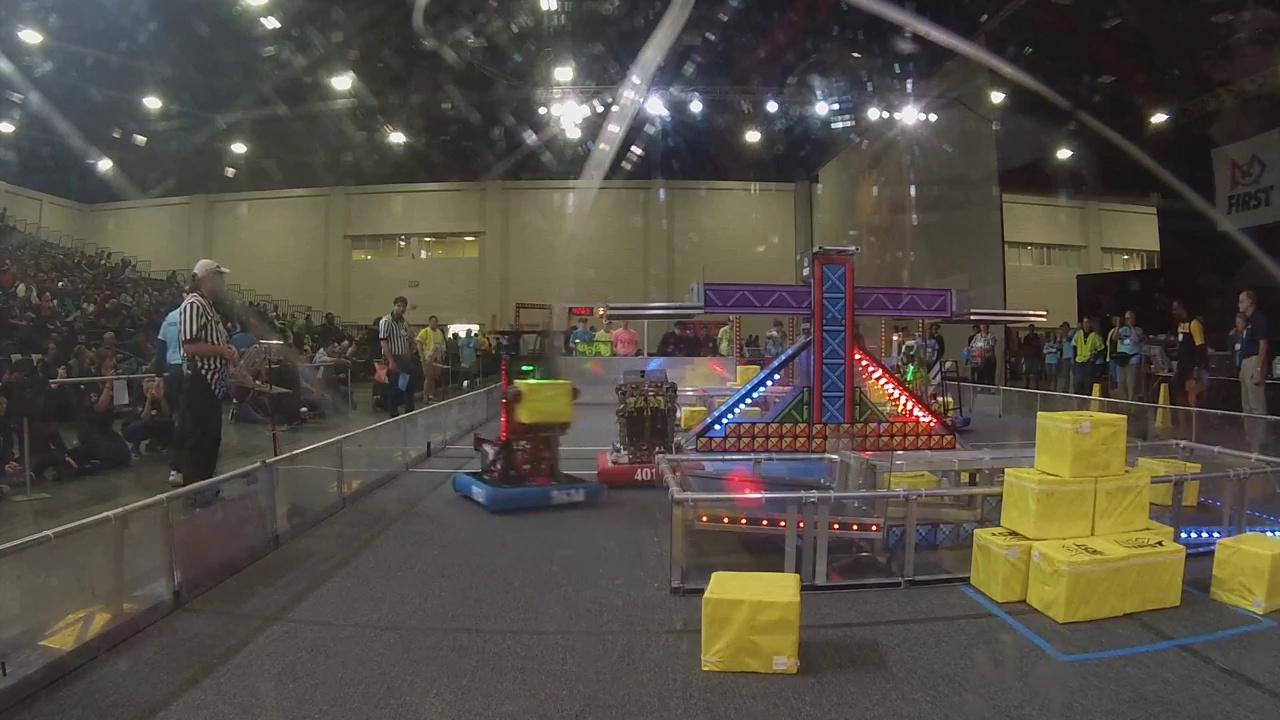robot: (451, 324, 608, 513), (593, 377, 695, 490)
